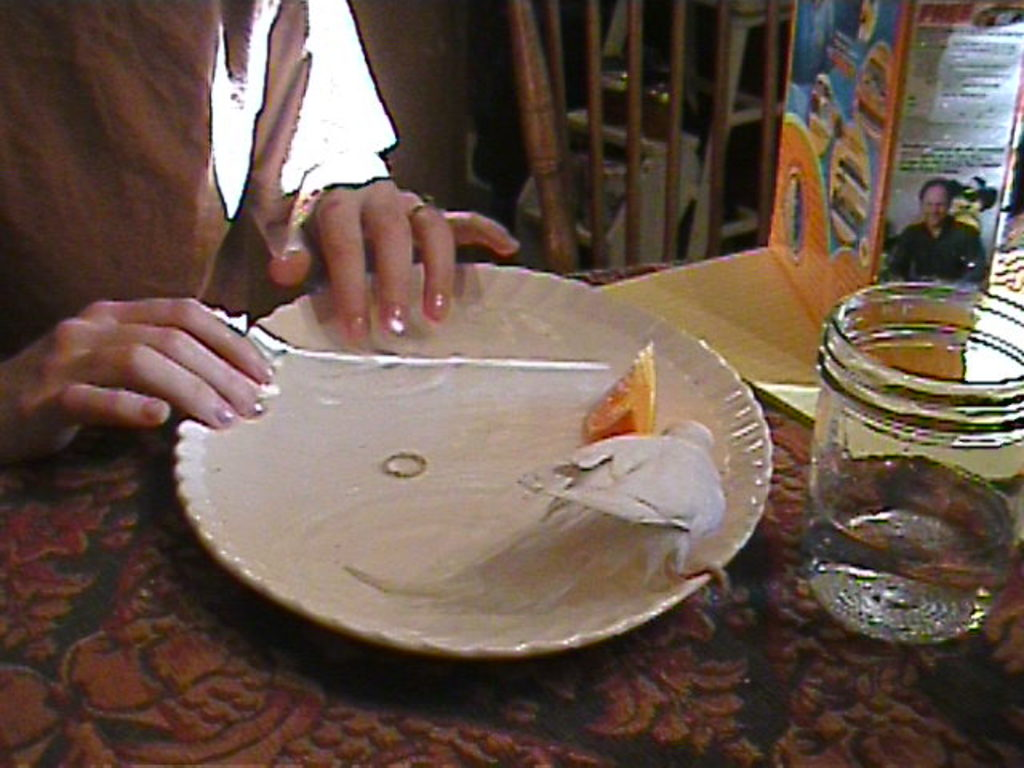plate: (139, 270, 796, 652)
